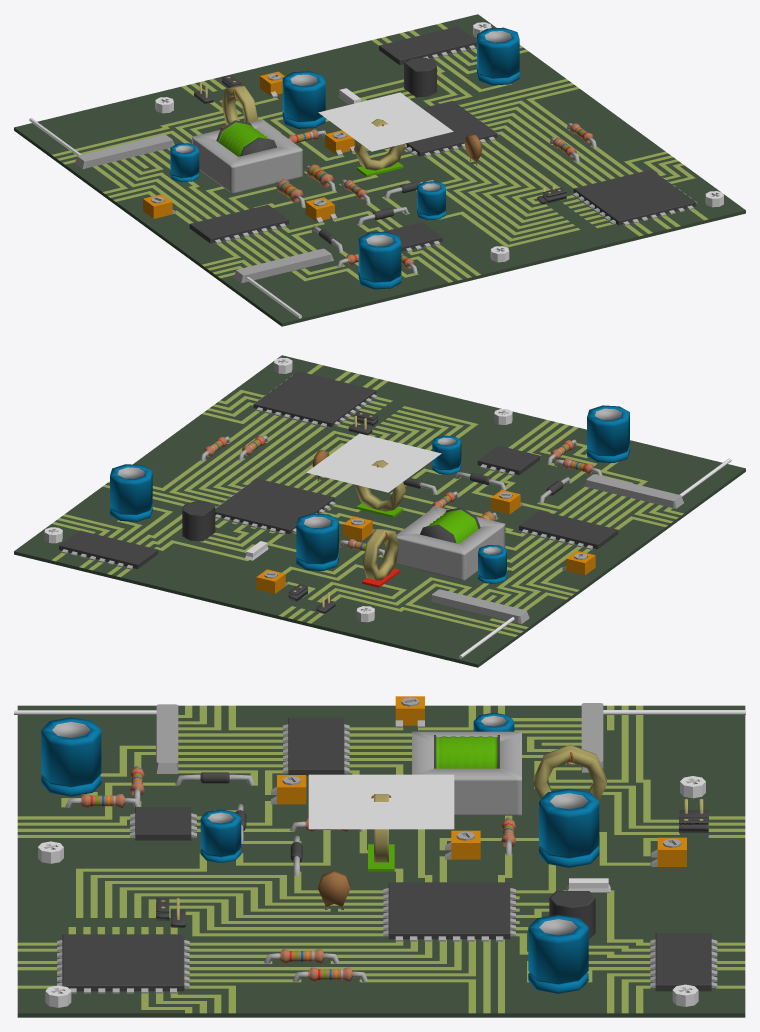
File: circuit_board.glb
The picture shows the model from 3 angles, top to bottom: view 1: azimuth 30°, elevation 25°; view 2: azimuth 150°, elevation 25°; view 3: azimuth 270°, elevation 25°; orthographic projection. The views are drawn at different scales.
Parts seen in each view (by area): view 1: board, transformer, Cube.001, CHIP.001, CHIP, Capacitor2.002, Capacitor2, Capacitor2.001, DIP.001, DIP, connector.001, connector (+9 smaller); view 2: board, transformer, Cube.001, CHIP.001, CHIP, Capacitor2.002, Capacitor2.001, Capacitor2, DIP, DIP.001, connector, connector.001 (+10 smaller); view 3: board, Cube.001, CHIP, CHIP.001, transformer, Capacitor2, Capacitor2.001, Capacitor2.002, DIP.001, DIP, DIP.002, Capacitor1 (+18 smaller).
Boxes of the visible parts, <box> form: board: <box>14,14,745,326</box>; transformer: <box>192,119,302,193</box>; Cube.001: <box>318,92,453,151</box>; CHIP.001: <box>573,169,697,225</box>; CHIP: <box>404,100,498,156</box>; Capacitor2.002: <box>358,231,401,289</box>; Capacitor2: <box>282,71,325,128</box>; Capacitor2.001: <box>477,27,519,85</box>; DIP.001: <box>189,205,288,243</box>; DIP: <box>379,26,476,64</box>; connector.001: <box>75,134,174,168</box>; connector: <box>233,248,333,283</box>; board: <box>14,355,745,667</box>; transformer: <box>396,506,505,580</box>; Cube.001: <box>306,433,441,492</box>; CHIP.001: <box>253,371,377,427</box>; CHIP: <box>215,478,335,534</box>; Capacitor2.002: <box>587,405,629,462</box>; Capacitor2.001: <box>110,464,152,521</box>; Capacitor2: <box>296,513,338,570</box>; DIP: <box>59,530,158,569</box>; DIP.001: <box>519,510,618,549</box>; connector: <box>583,474,683,508</box>; connector.001: <box>429,589,529,623</box>; board: <box>17,705,745,1017</box>; Cube.001: <box>308,774,454,829</box>; CHIP: <box>383,882,515,941</box>; CHIP.001: <box>57,934,189,993</box>; transformer: <box>412,731,521,815</box>; Capacitor2: <box>539,788,599,867</box>; Capacitor2.001: <box>528,914,588,993</box>; Capacitor2.002: <box>41,717,101,796</box>; DIP.001: <box>283,717,349,775</box>; DIP: <box>650,933,717,991</box>; DIP.002: <box>130,807,196,840</box>; Capacitor1: <box>200,809,241,862</box>.
Size of the model in its own units: 10 by 1.09 by 10.06.
